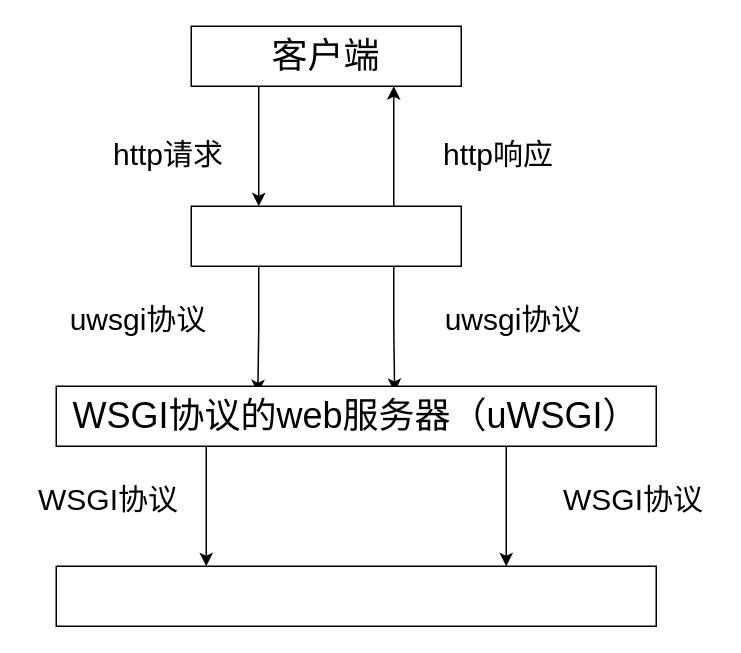
The diagram is 741 pixels wide and 653 high, and some of its shapes have lost their labels. The centre of each missing label's shape, as x and y in pixels:
Ngnix服务器: the point at 325,235
WSGI协议的web应用（Flask）: the point at 355,595
